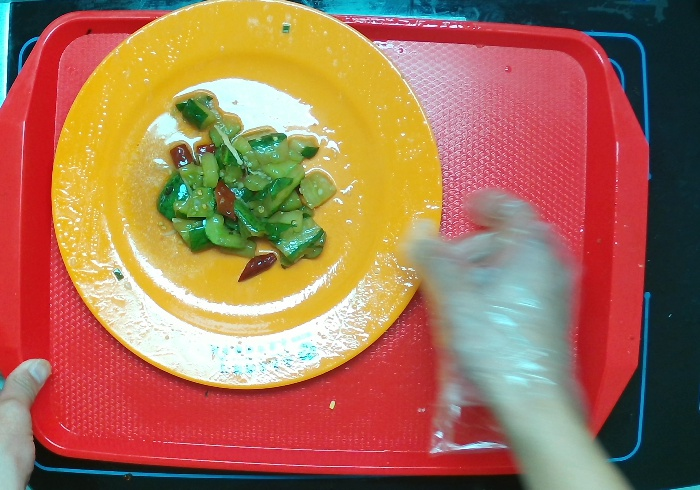YKMZ-Ju_Se_Mian_Pan: (37, 1, 445, 391)
